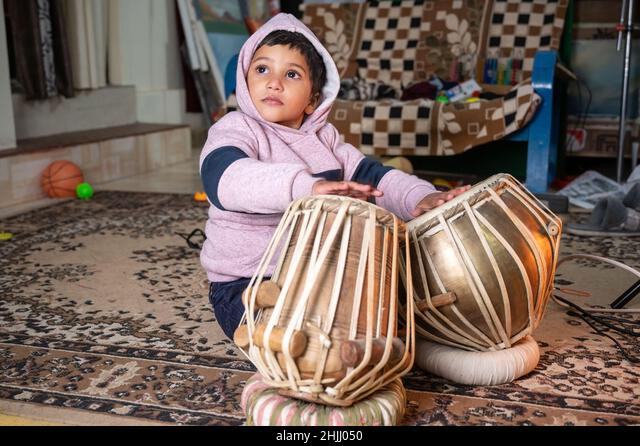tabla: (229, 195, 415, 398), (404, 170, 563, 347)
